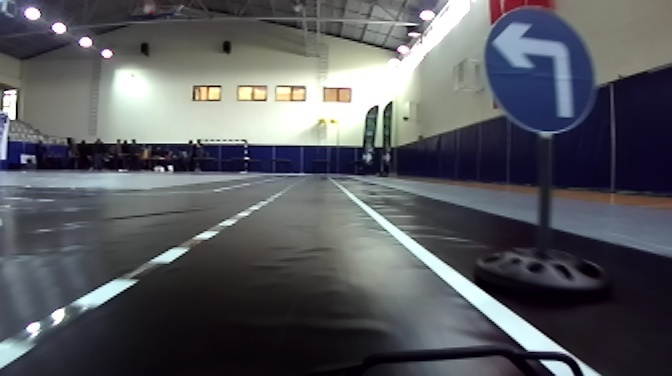sola_donus: (484, 7, 602, 134)
